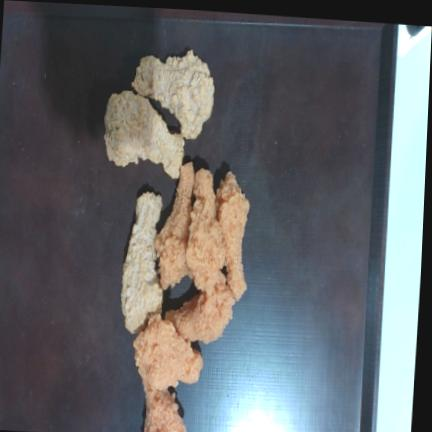chicken: (132, 49, 214, 138), (104, 90, 184, 179), (121, 191, 162, 332), (133, 314, 202, 389), (155, 162, 195, 289), (186, 169, 225, 293), (165, 282, 235, 343), (216, 171, 249, 300), (143, 382, 185, 432)
